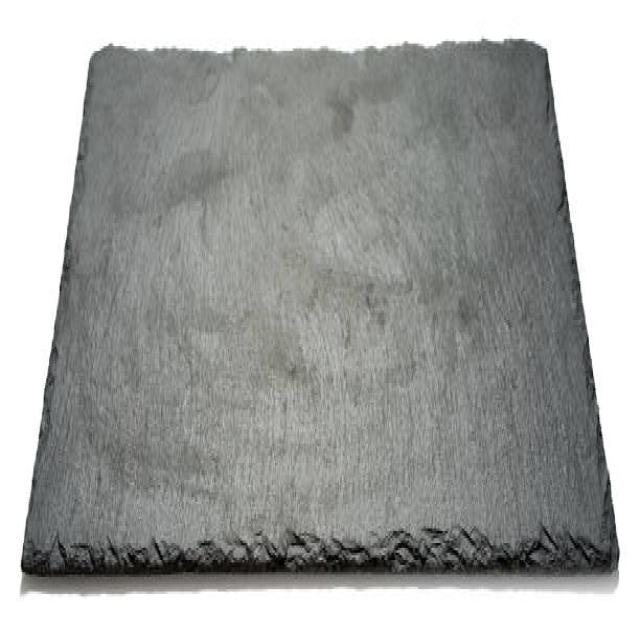Metamorphic: (28, 29, 619, 596)
